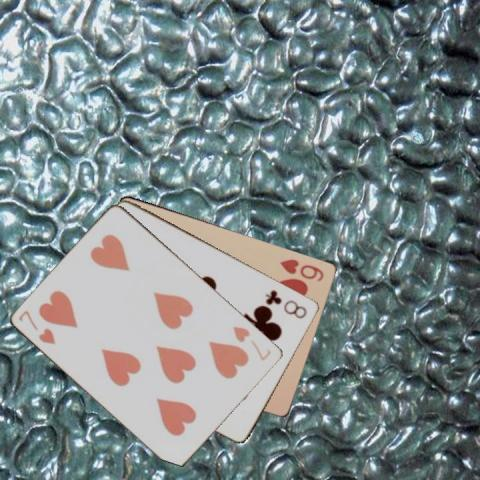6h: (277, 256, 326, 283)
7h: (230, 323, 273, 362), (16, 307, 57, 346)
8c: (262, 287, 309, 320)
